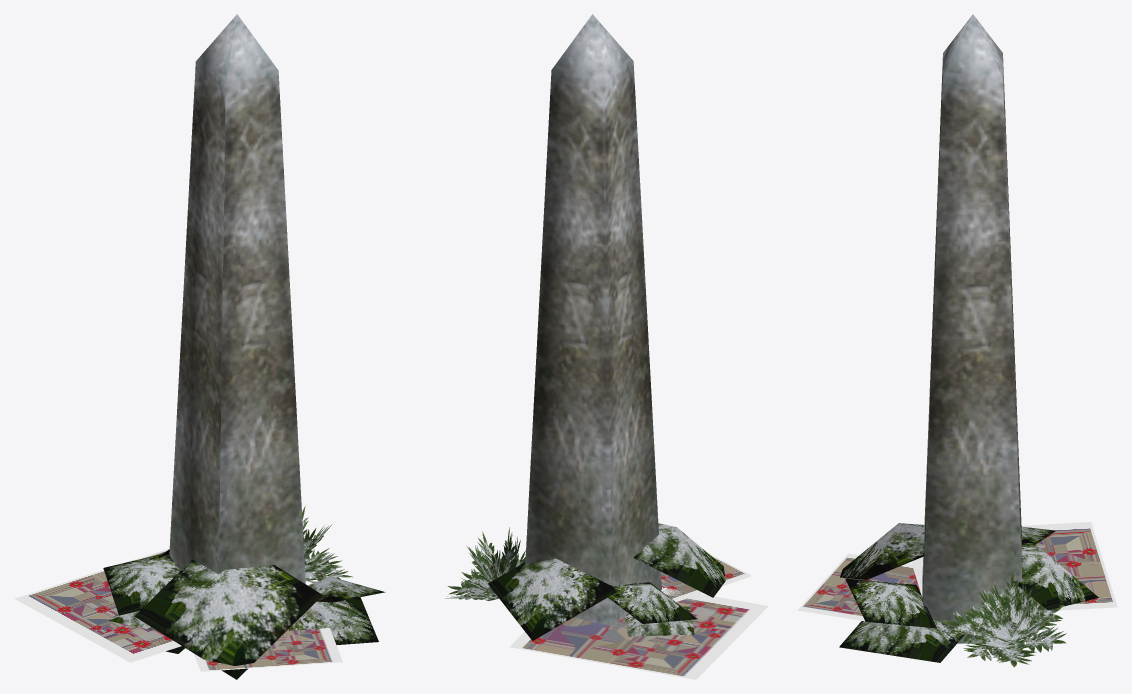
File: obelisk.dae
3 renders of one model, left to right at view 1: azimuth 30°, elevation 25°; view 2: azimuth 150°, elevation 25°; view 3: azimuth 270°, elevation 25°, orthographic.
Visible parts, largest first — view 1: Untitled; view 2: Untitled; view 3: Untitled.
Part boxes in pixels (x1,y1,x2,y2): Untitled: (14, 14, 385, 679); Untitled: (445, 14, 768, 679); Untitled: (797, 14, 1117, 667).
Size of the model in its own units: 2.75 by 2.46 by 5.15.
Materials: 4 (4 with a texture image).
